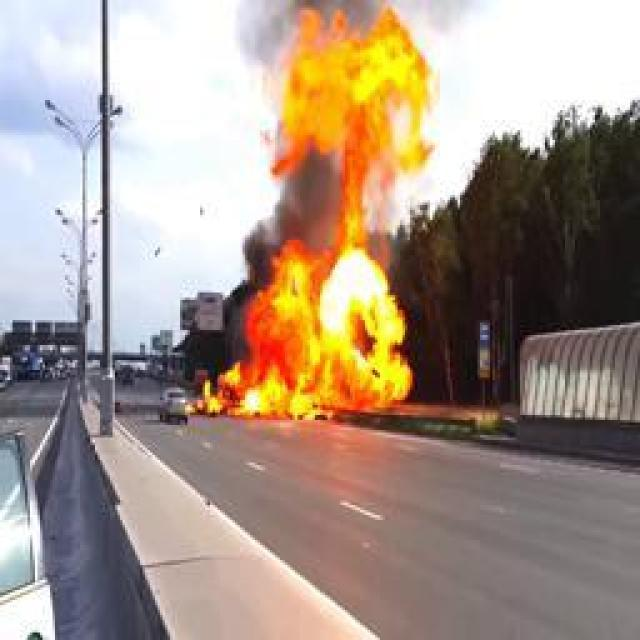Fire: (191, 9, 439, 432)
